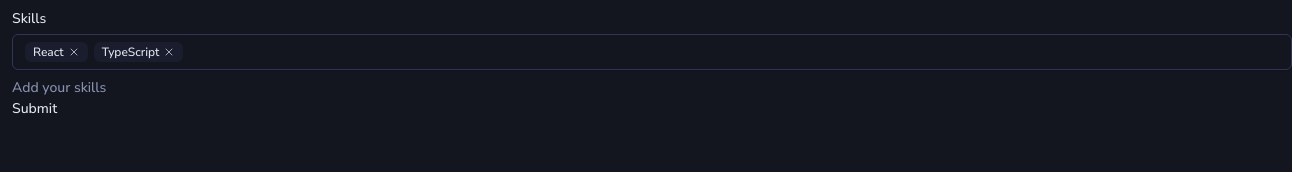
Test: FormTagField › removes a tag by clicking the remove button
Expected: the text "React" is shown, [25,42,88,62]
What coordinates should you click on to do the following:
click the button named "remove react"
I would click on:
 (74, 52)
Its box is [68,46,80,58].
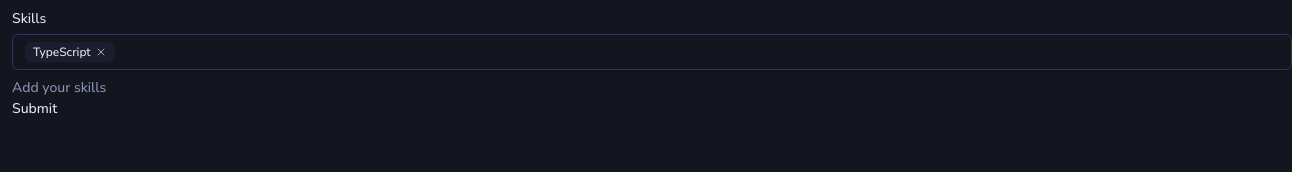
Expected: the text "TypeScript" is shown, [25,42,115,62]
Now the text "React" is gone
